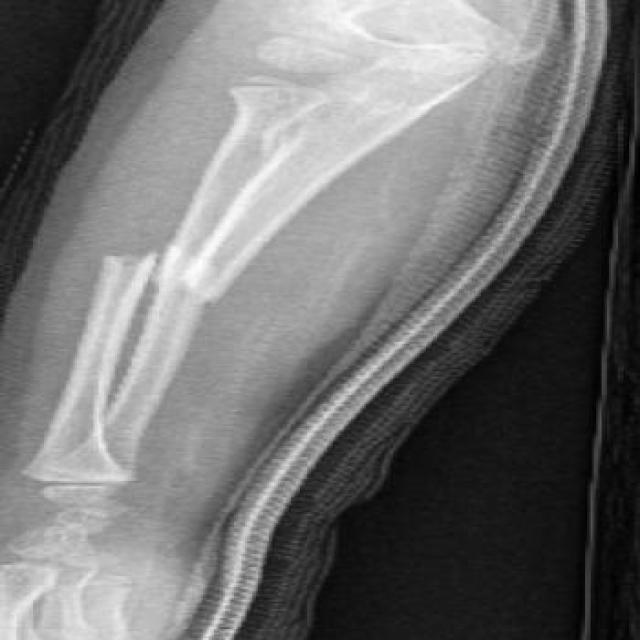Fracture: (91, 243, 242, 304)
